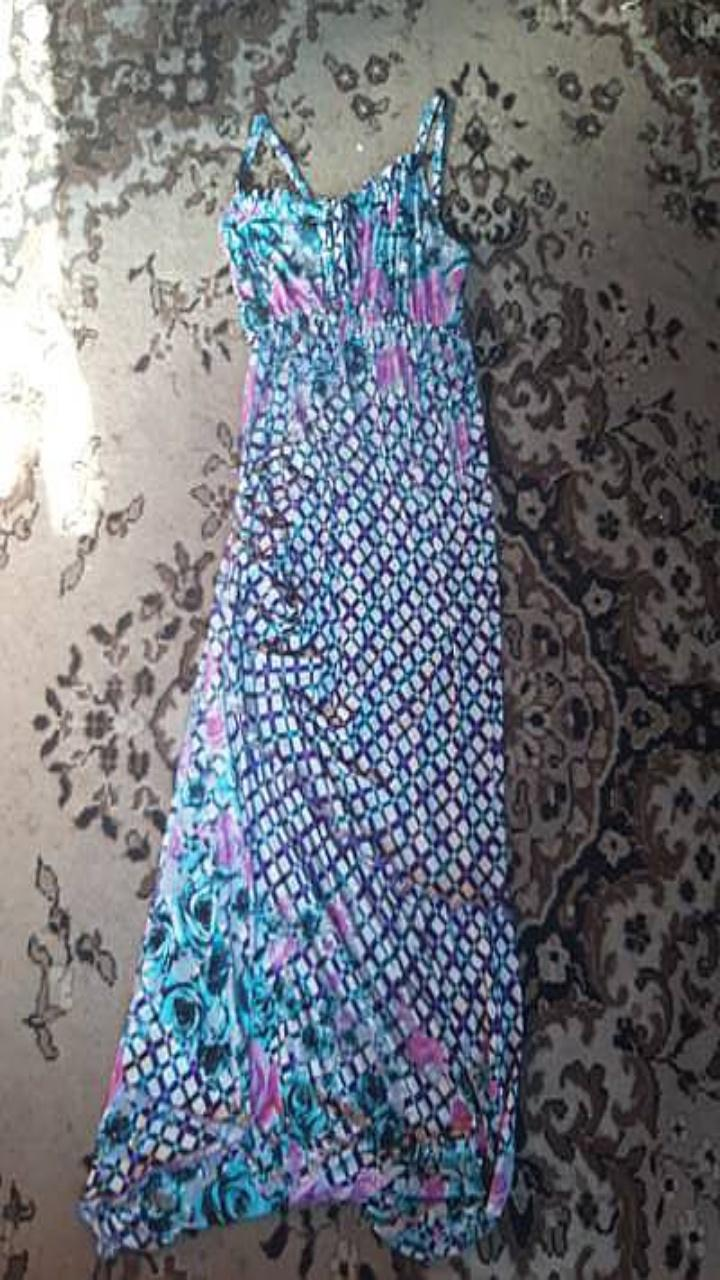Dresses: (81, 91, 521, 1259)
